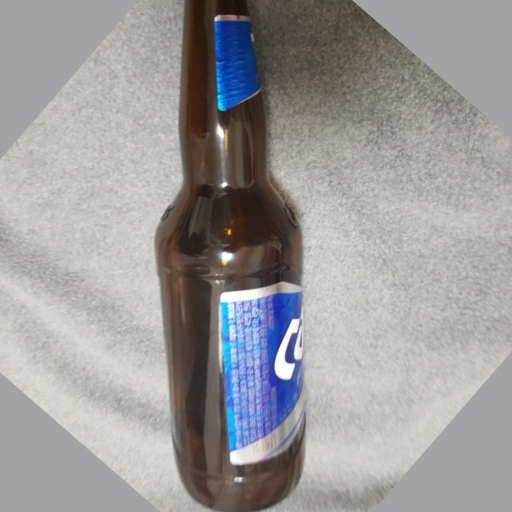Glass_1: (150, 1, 307, 512)
